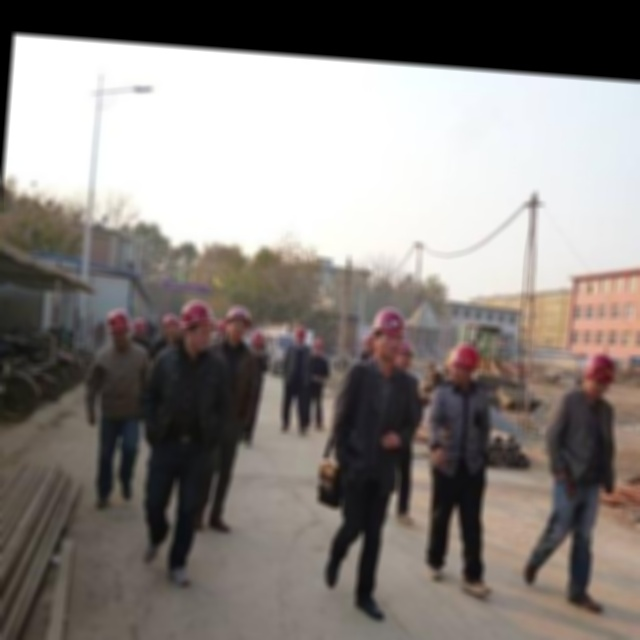Con_Casco: (369, 305, 408, 361), (450, 341, 483, 387), (583, 351, 616, 396)
